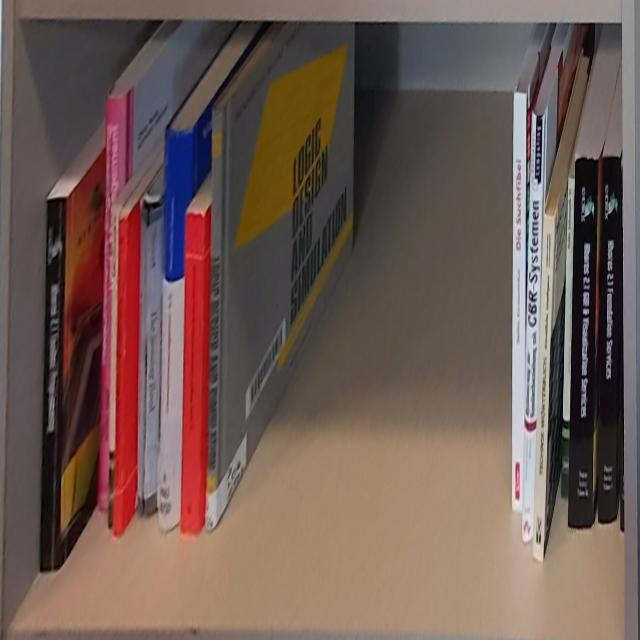Book Spine: (156, 128, 192, 538), (97, 92, 126, 511), (568, 156, 599, 525), (39, 192, 69, 571), (521, 109, 545, 544), (598, 156, 620, 524), (203, 110, 222, 532), (532, 213, 554, 563), (181, 211, 204, 534), (137, 193, 160, 514), (512, 91, 527, 512), (112, 214, 126, 539), (561, 176, 574, 497), (109, 207, 117, 527)
